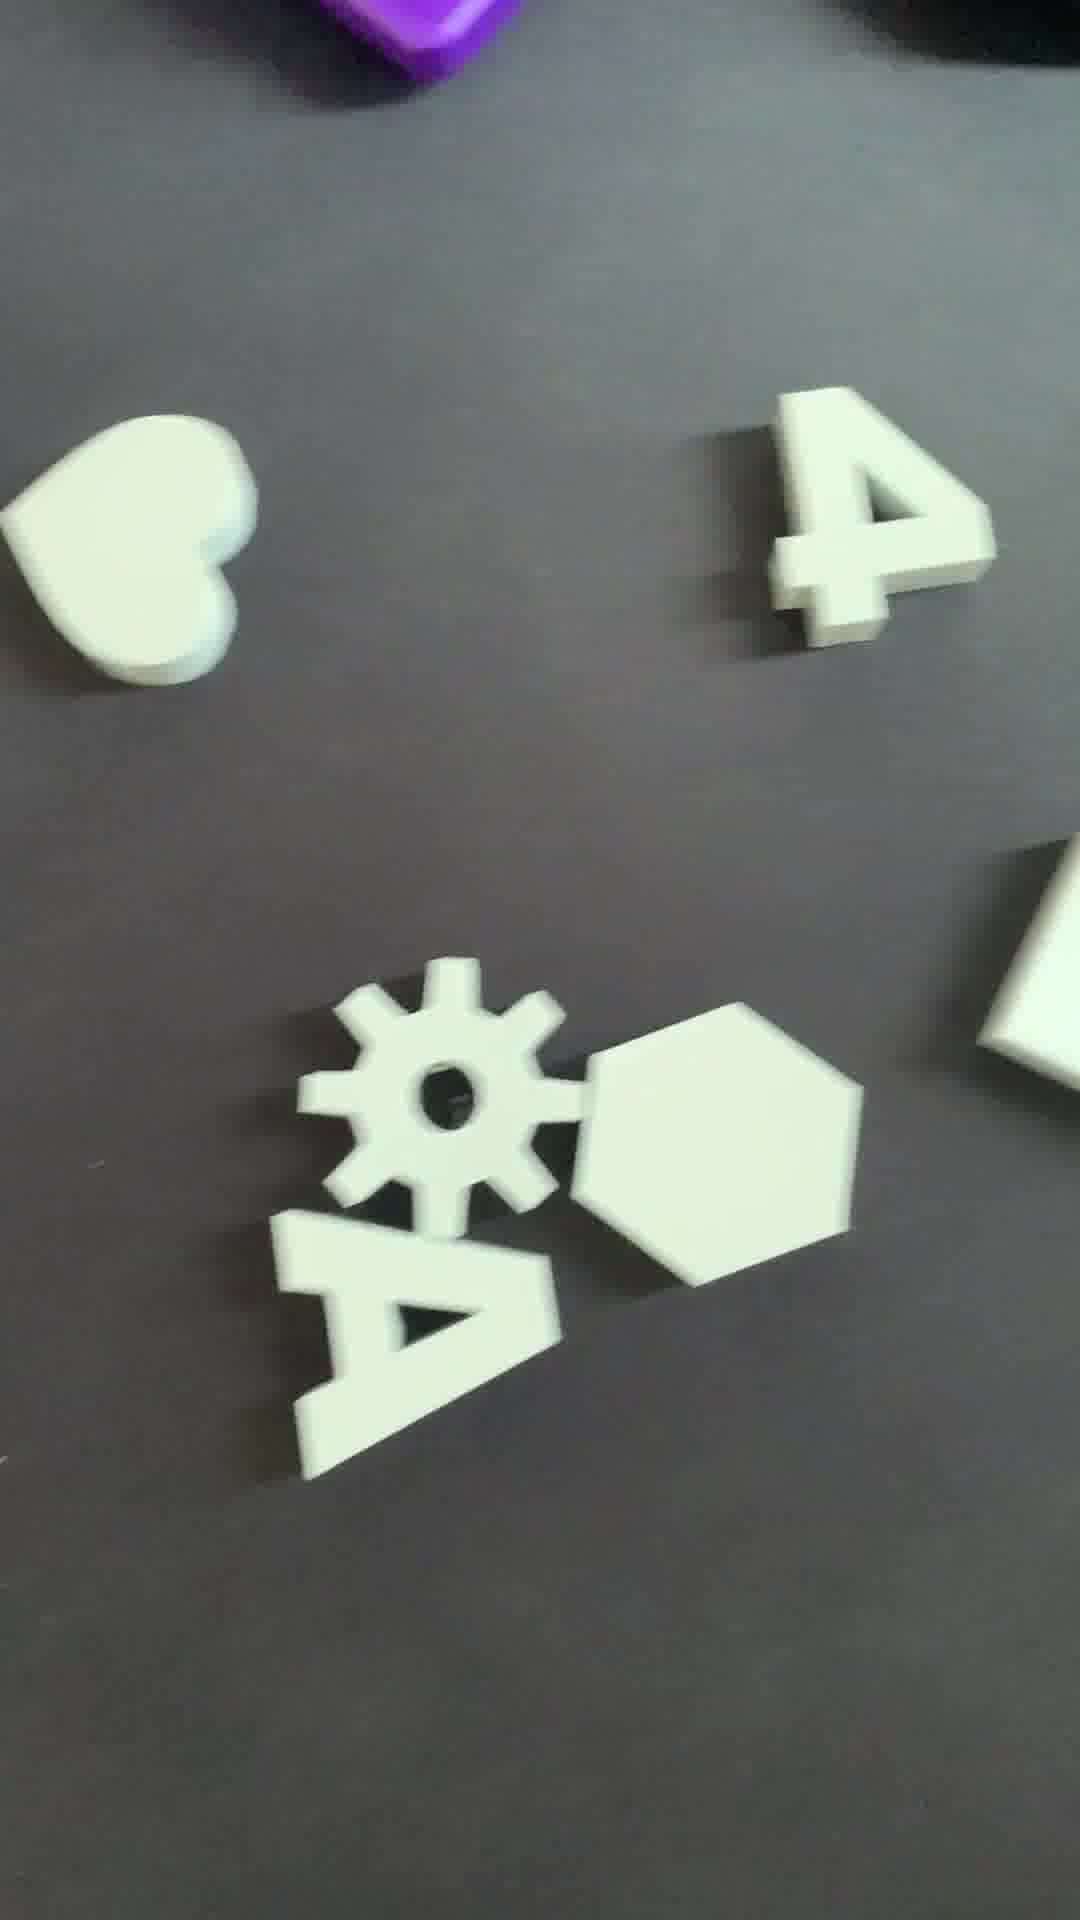Gray A-letter: (241, 1207, 558, 1522)
Gray four: (756, 389, 1027, 654)
Gray gear: (306, 944, 596, 1250)
Gray heart: (1, 404, 276, 712)
Gray hexagon: (580, 1004, 891, 1295)
